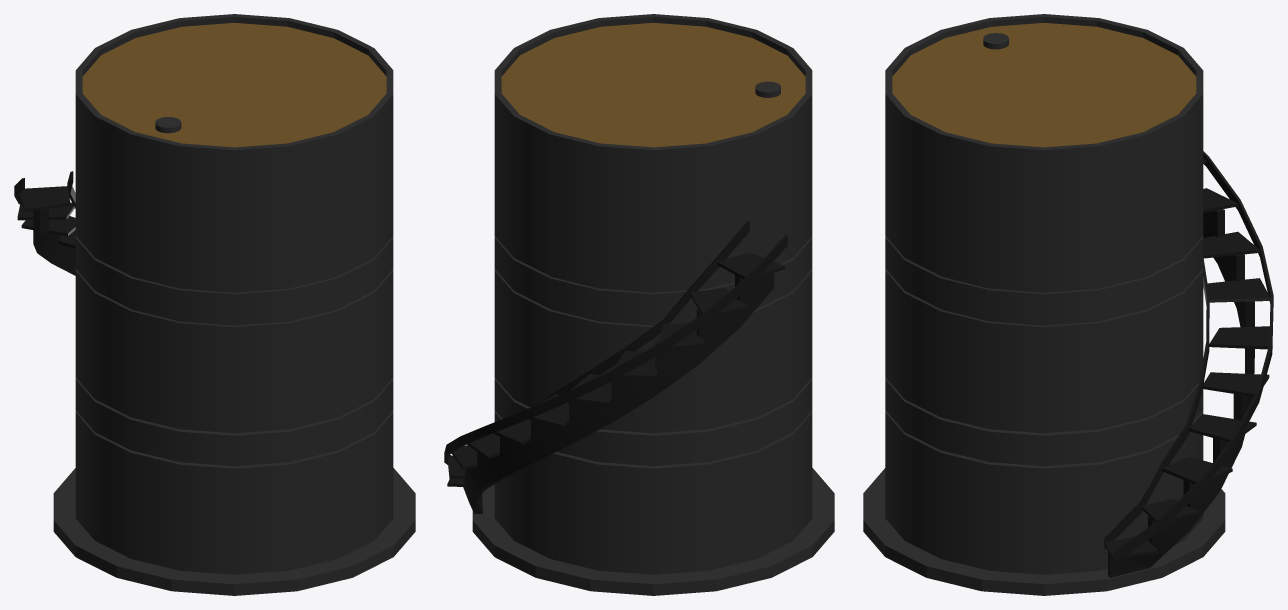
The model's file is Oil Tank.FBX.
The picture shows the model from 3 angles, left to right: view 1: azimuth 30°, elevation 25°; view 2: azimuth 150°, elevation 25°; view 3: azimuth 270°, elevation 25°; orthographic projection.
Parts seen in each view (by area): view 1: Oil Tank; view 2: Oil Tank; view 3: Oil Tank.
Boxes of the visible parts, x1=… form: Oil Tank: x1=14, y1=14, x2=415, y2=595; Oil Tank: x1=444, y1=14, x2=834, y2=595; Oil Tank: x1=863, y1=14, x2=1273, y2=595.
Bounding box in the file's own units: 76.33 × 94.18 × 80.25.
